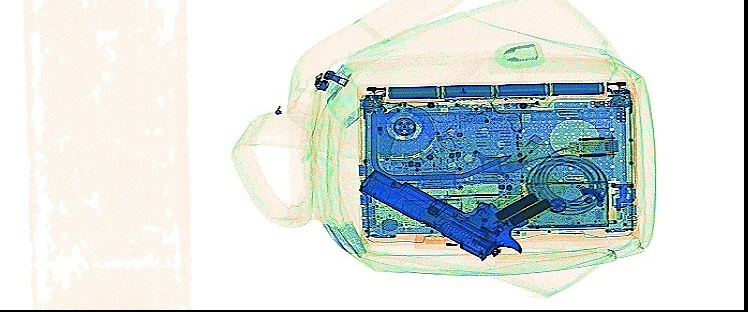lighter: (496, 128, 543, 180), (410, 229, 480, 254)
